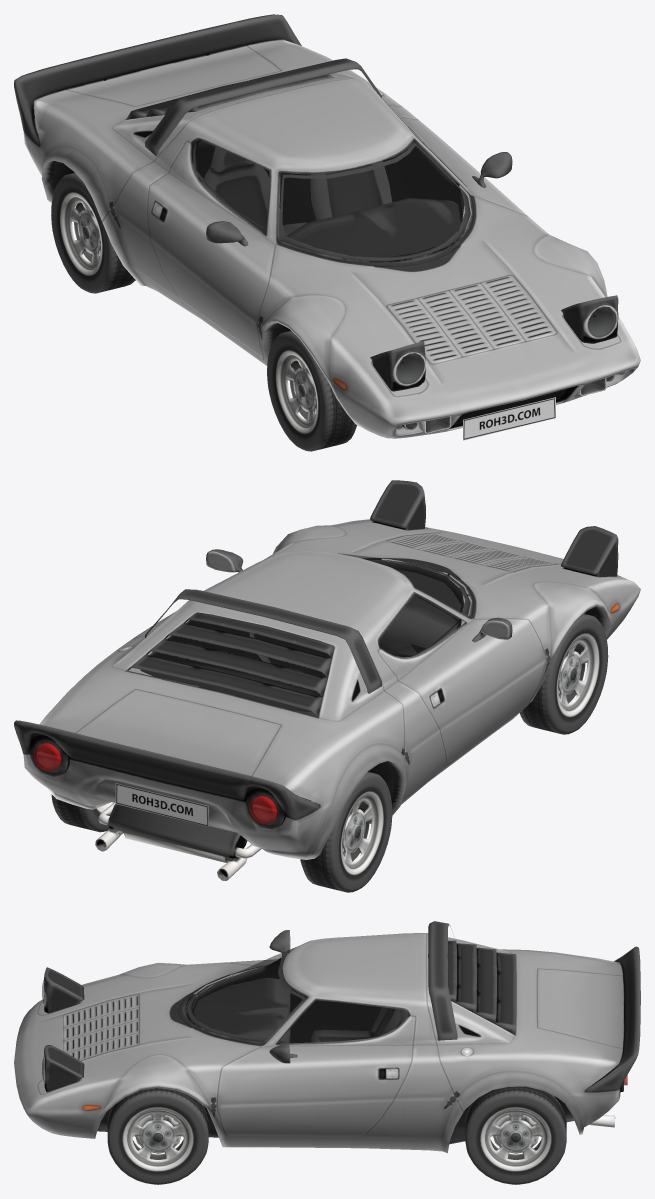
The model's file is lancia.glb.
3 views of the same model, one above another, from view 1: azimuth 30°, elevation 25°; view 2: azimuth 150°, elevation 25°; view 3: azimuth 270°, elevation 25° (orthographic). The views are drawn at different scales.
Visible parts, largest first — view 1: _Lancia_Stratos000, _Lancia_Stratos001, _Lancia_Stratos002, _Lancia_Stratos003; view 2: _Lancia_Stratos000, _Lancia_Stratos001, _Lancia_Stratos003, _Lancia_Stratos002; view 3: _Lancia_Stratos000, _Lancia_Stratos001, _Lancia_Stratos003, _Lancia_Stratos002.
Part boxes in pixels (<box>): _Lancia_Stratos000: <box>14,14,640,440</box>; _Lancia_Stratos001: <box>191,106,624,432</box>; _Lancia_Stratos002: <box>267,330,357,451</box>; _Lancia_Stratos003: <box>51,173,135,293</box>; _Lancia_Stratos000: <box>14,480,640,880</box>; _Lancia_Stratos001: <box>33,553,471,824</box>; _Lancia_Stratos003: <box>51,772,392,892</box>; _Lancia_Stratos002: <box>519,614,608,734</box>; _Lancia_Stratos000: <box>14,921,640,1153</box>; _Lancia_Stratos001: <box>42,946,627,1085</box>; _Lancia_Stratos003: <box>465,1086,566,1184</box>; _Lancia_Stratos002: <box>107,994,208,1184</box>.
Bounding box in the file's own units: 1.73 × 1.14 × 3.71.
1 material, 1 textured.
